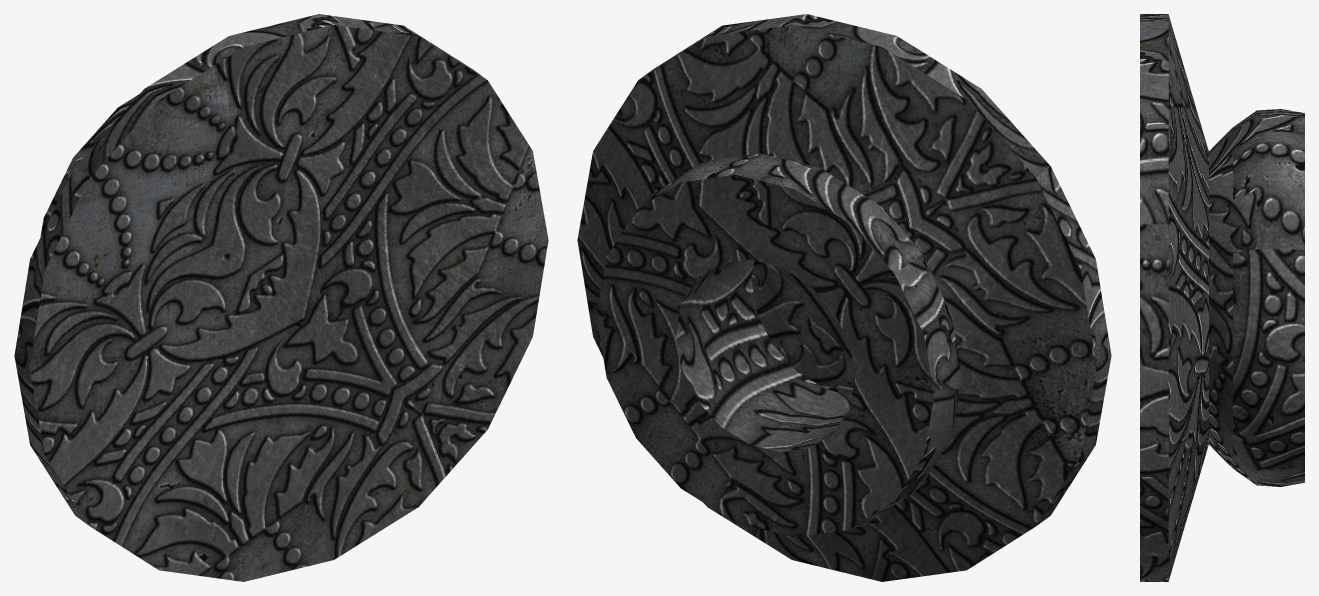
Rendered from dysza.FBX.
3 renders of one model, left to right at view 1: azimuth 30°, elevation 25°; view 2: azimuth 150°, elevation 25°; view 3: azimuth 270°, elevation 25°, orthographic. The views are drawn at different scales.
Parts seen in each view (by area): view 1: Cylinder020; view 2: Cylinder020; view 3: Cylinder020.
Part boxes in pixels (x1,y1,x2,y2): Cylinder020: (14, 14, 548, 581); Cylinder020: (577, 14, 1111, 581); Cylinder020: (1140, 14, 1304, 581).
Bounding box in the file's own units: 49.05 × 48.31 × 14.19.
Materials: 1 (1 with a texture image).
